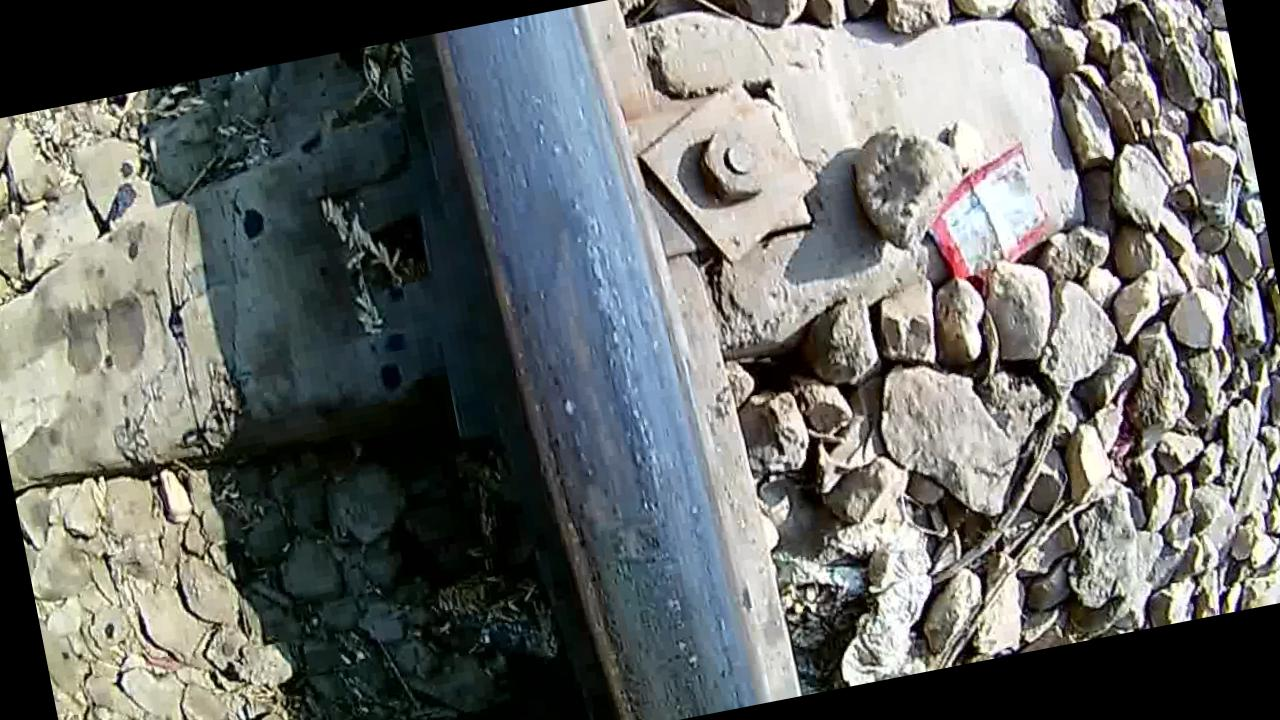bolt_missing: (475, 152, 749, 717)
